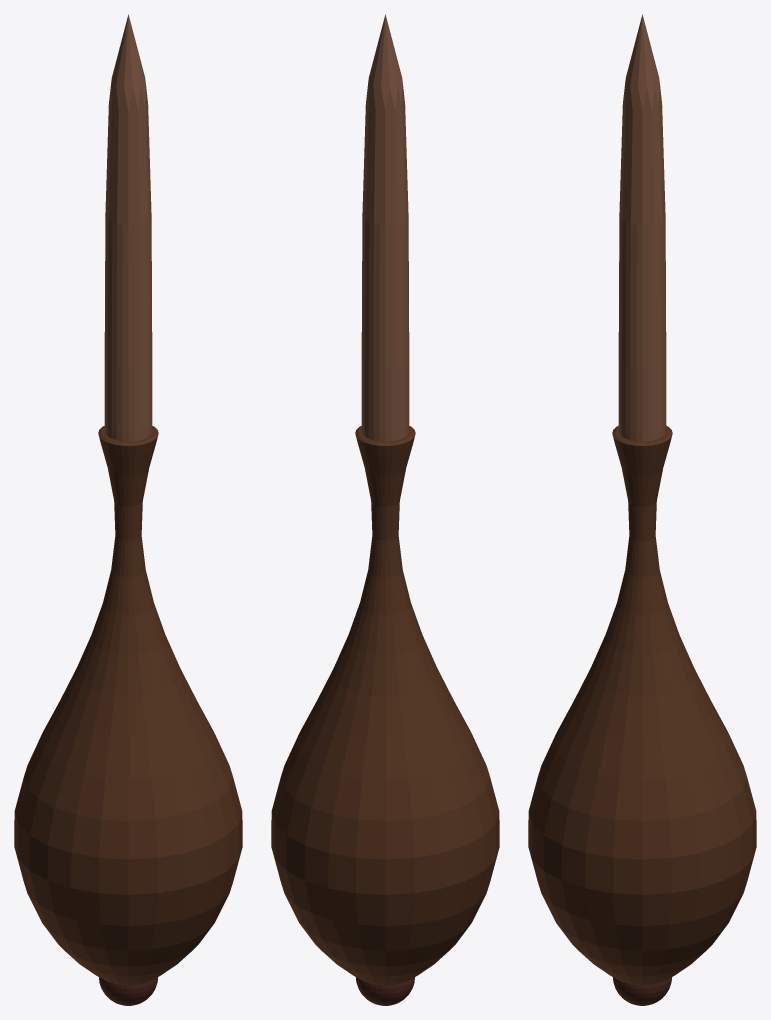
Rendered from Wand 903.glb.
The picture shows the model from 3 angles, left to right: view 1: azimuth 30°, elevation 25°; view 2: azimuth 150°, elevation 25°; view 3: azimuth 270°, elevation 25°; orthographic projection.
Visible parts, largest first — view 1: GeneratedWand; view 2: GeneratedWand; view 3: GeneratedWand.
Part boxes in pixels (box(x1,y1,x2,y2)): GeneratedWand: box(14, 14, 242, 1005); GeneratedWand: box(271, 14, 499, 1005); GeneratedWand: box(528, 14, 756, 1005).
Size of the model in its own units: 0.1026 by 0.49 by 0.1026.
